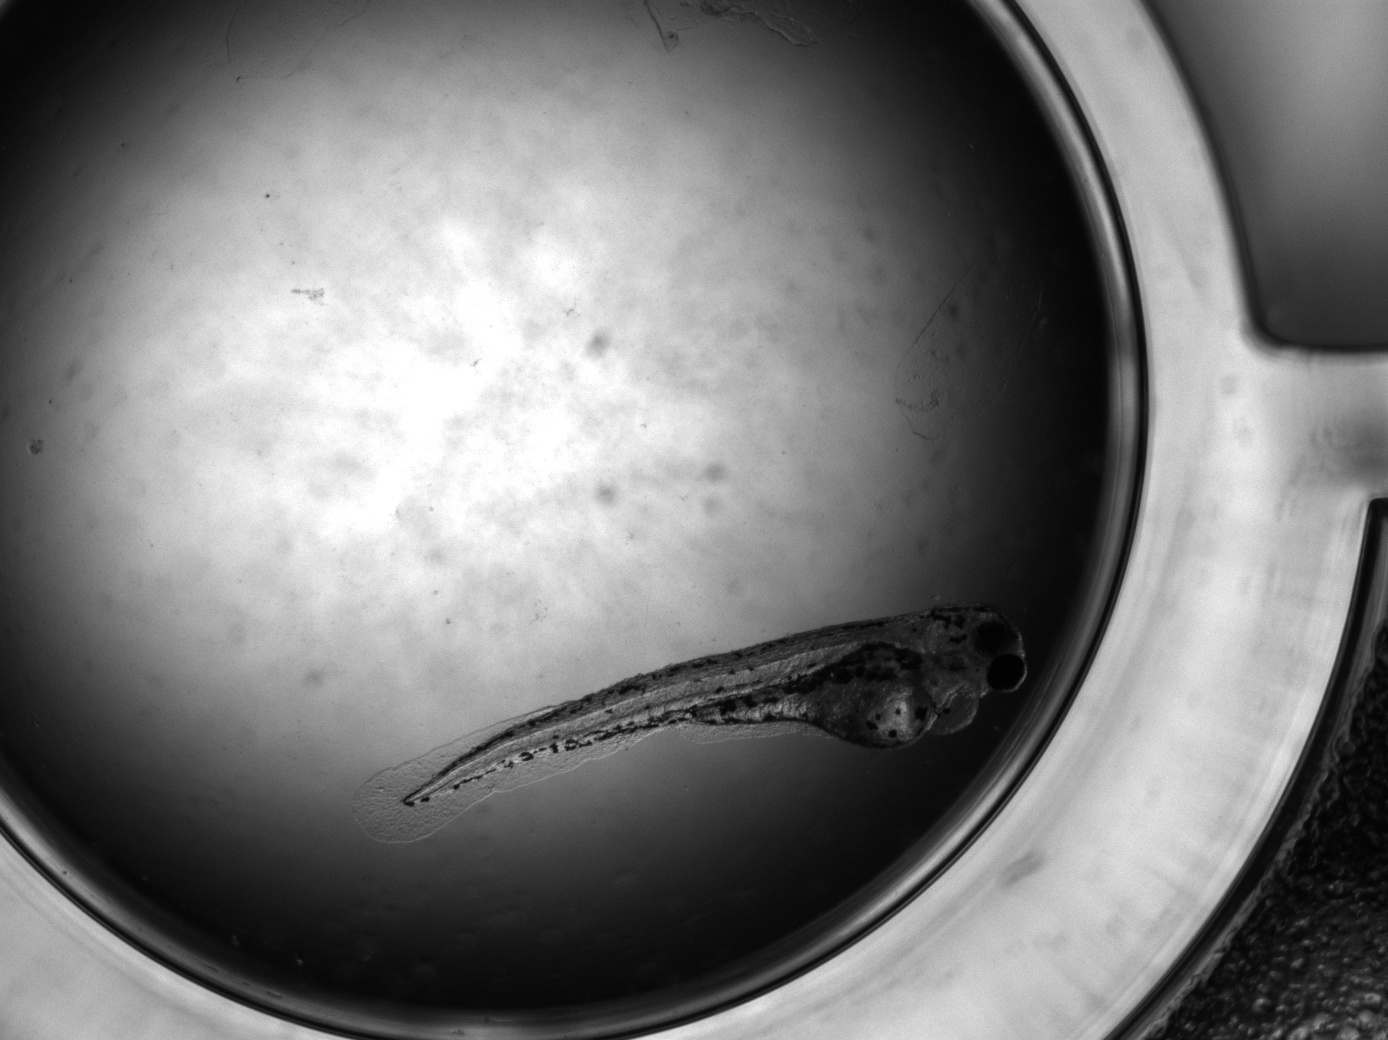embryo: (401, 604, 1028, 806)
eye: (972, 619, 1015, 657), (986, 653, 1027, 692)
yolksac: (690, 645, 978, 752)
